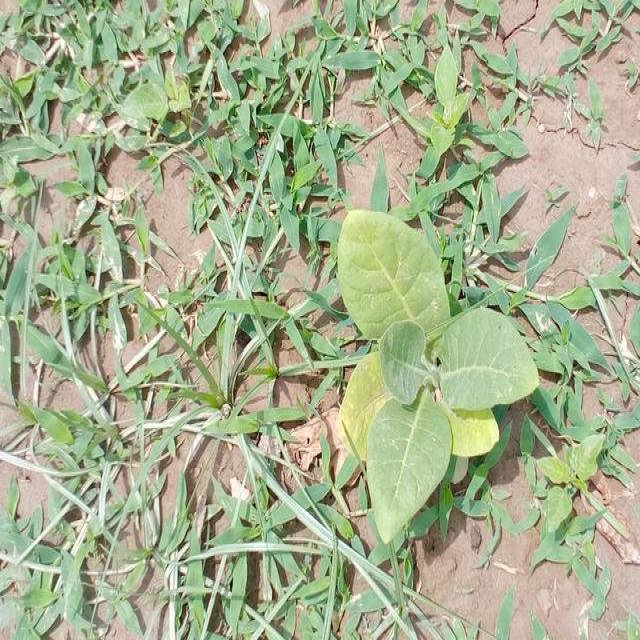crop: (337, 209, 538, 535)
